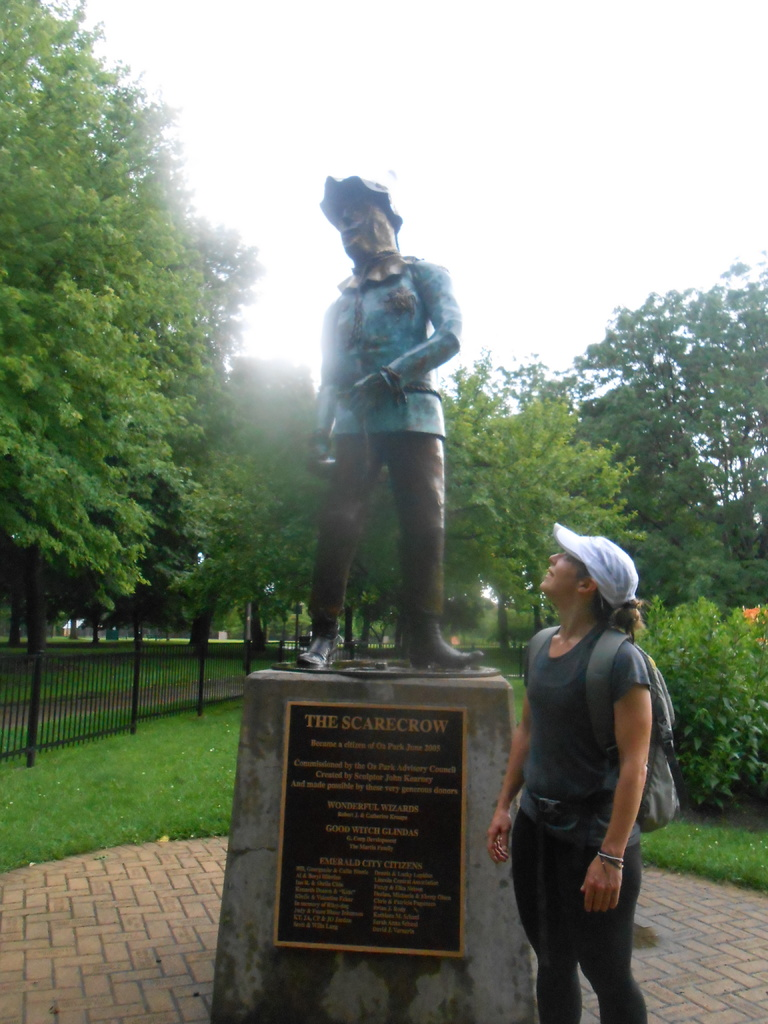Footwear: (404, 618, 484, 670), (292, 637, 343, 665)
